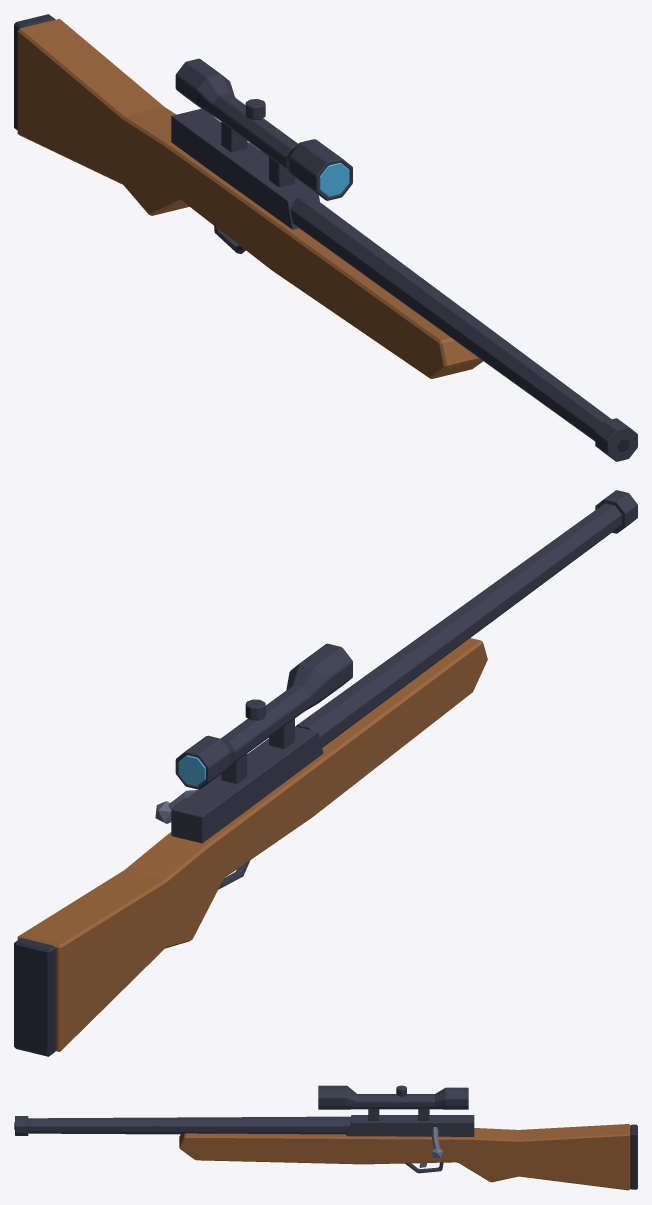
Rendered from myw_huntingrifle.glb.
3 views of the same model, one above another, from view 1: azimuth 30°, elevation 25°; view 2: azimuth 150°, elevation 25°; view 3: azimuth 270°, elevation 25° (orthographic). The views are drawn at different scales.
Parts seen in each view (by area): view 1: Stock, Barrel, Scope; view 2: Stock, Barrel, Scope; view 3: Stock, Barrel, Scope, Bolt.
Boxes of the visible parts, box(x1,y1,x2,y2) form: Stock: box(14, 14, 482, 378); Barrel: box(171, 108, 637, 461); Scope: box(175, 58, 352, 200); Stock: box(14, 638, 487, 1056); Barrel: box(171, 490, 637, 843); Scope: box(175, 643, 352, 789); Stock: box(179, 1124, 637, 1190); Barrel: box(14, 1115, 474, 1136); Scope: box(318, 1085, 468, 1120); Bolt: box(431, 1127, 442, 1159).
Bounding box in the file's own units: 0.4737 × 0.9716 × 5.6.
